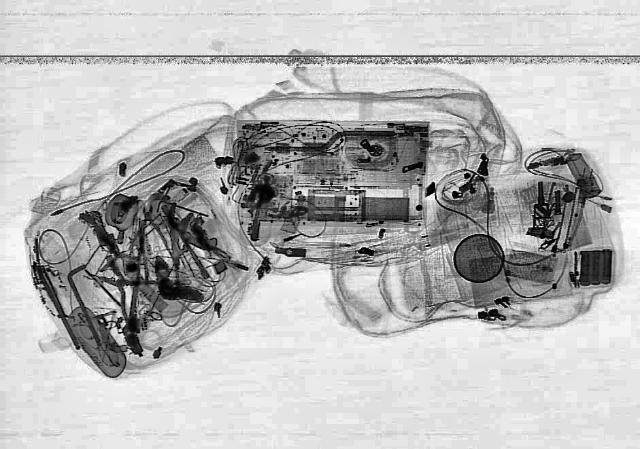Pliers: (122, 204, 178, 268)
